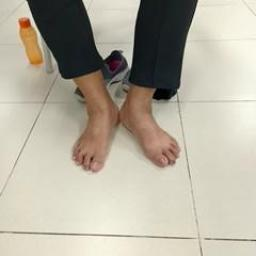Front View -Both Feet-: (57, 93, 194, 181)
